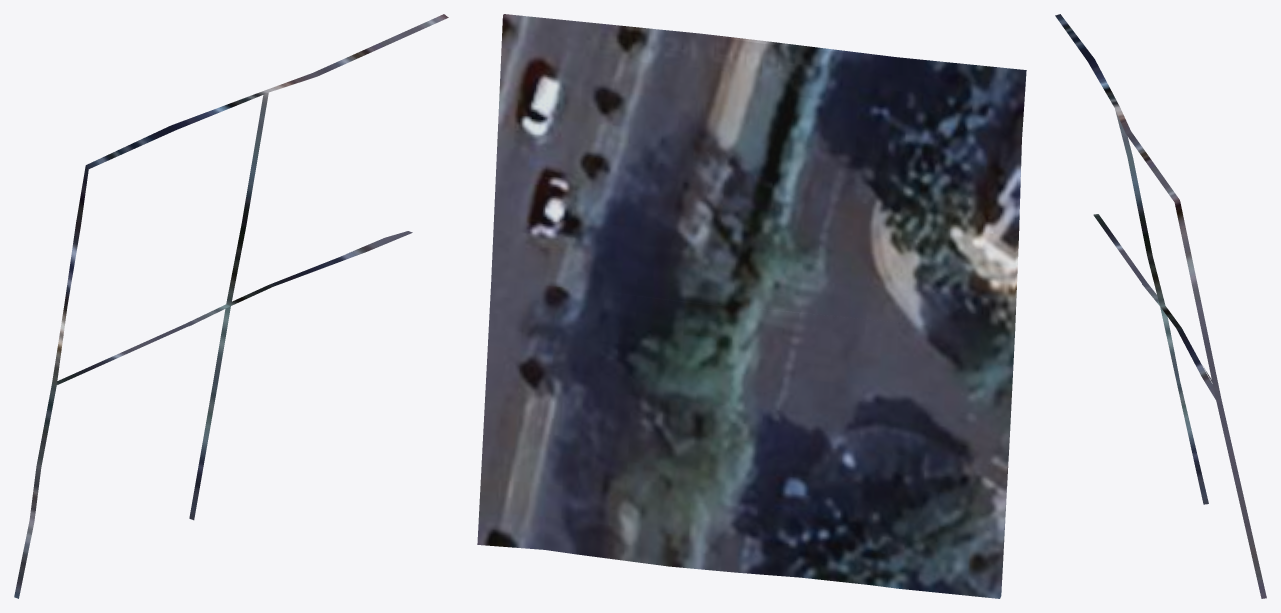
3 views of the same model, side by side, from view 1: azimuth 30°, elevation 25°; view 2: azimuth 150°, elevation 25°; view 3: azimuth 270°, elevation 25° (orthographic). The views are drawn at different scales.
Bounding box in the file's own units: 38.41 × 37.51 × 17.56.
Materials: 1 (1 with a texture image).
